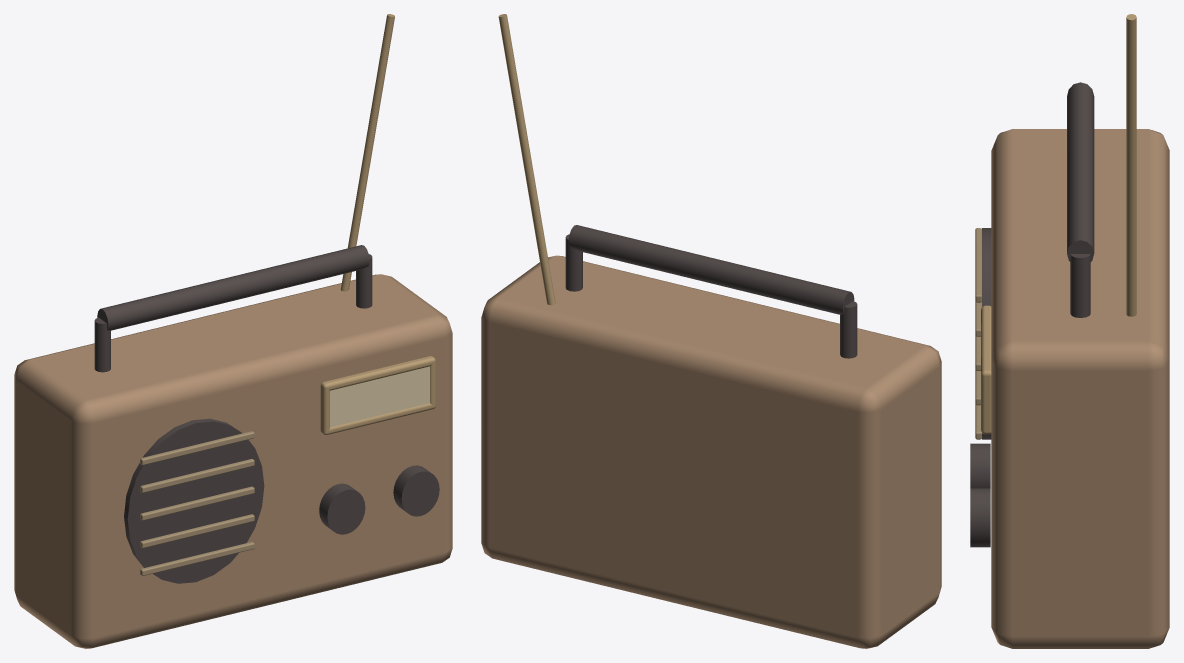
The model's file is radio.glb.
The picture shows the model from 3 angles, left to right: view 1: azimuth 30°, elevation 25°; view 2: azimuth 150°, elevation 25°; view 3: azimuth 270°, elevation 25°; orthographic projection. The views are drawn at different scales.
Visible parts, largest first — view 1: radio-cabinet, speaker-cloth, carry-handle, tuner-inset, aerial, tuning-knob-0-24, tuning-knob-0-115, tuner-rail-1, speaker-grille-2, speaker-grille-1, speaker-grille-3, speaker-grille-4 (+4 smaller); view 2: radio-cabinet, carry-handle, aerial, handle-post--0-22, handle-post-0-22; view 3: radio-cabinet, carry-handle, aerial, handle-post-0-22, tuning-knob-0-24, tuning-knob-0-115, speaker-cloth, tuner-rail-1, tuner-stile-1, speaker-grille-4.
Boxes of the visible parts, bbox=[...] form: radio-cabinet: bbox=[14, 274, 452, 648]; speaker-cloth: bbox=[124, 418, 264, 583]; carry-handle: bbox=[97, 245, 369, 330]; tuner-inset: bbox=[330, 366, 429, 427]; aerial: bbox=[340, 14, 394, 291]; tuning-knob-0-24: bbox=[393, 465, 439, 516]; tuning-knob-0-115: bbox=[319, 483, 365, 534]; tuner-rail-1: bbox=[320, 356, 435, 390]; speaker-grille-2: bbox=[140, 486, 254, 520]; speaker-grille-1: bbox=[140, 514, 254, 548]; speaker-grille-3: bbox=[140, 459, 254, 492]; speaker-grille-4: bbox=[140, 431, 254, 465]; radio-cabinet: bbox=[481, 255, 941, 648]; carry-handle: bbox=[568, 225, 854, 314]; aerial: bbox=[498, 14, 555, 305]; handle-post--0-22: bbox=[840, 301, 857, 358]; handle-post-0-22: bbox=[565, 234, 582, 291]; radio-cabinet: bbox=[991, 129, 1169, 648]; carry-handle: bbox=[1067, 82, 1094, 261]; aerial: bbox=[1126, 14, 1136, 316]; handle-post-0-22: bbox=[1070, 254, 1090, 317]; tuning-knob-0-24: bbox=[970, 488, 990, 547]; tuning-knob-0-115: bbox=[970, 443, 990, 488]; speaker-cloth: bbox=[982, 228, 991, 439]; tuner-rail-1: bbox=[981, 305, 991, 377]; tuner-stile-1: bbox=[981, 369, 991, 431]; speaker-grille-4: bbox=[975, 228, 981, 302].
Size of the model in its own units: 0.64 by 0.825 by 0.235.
